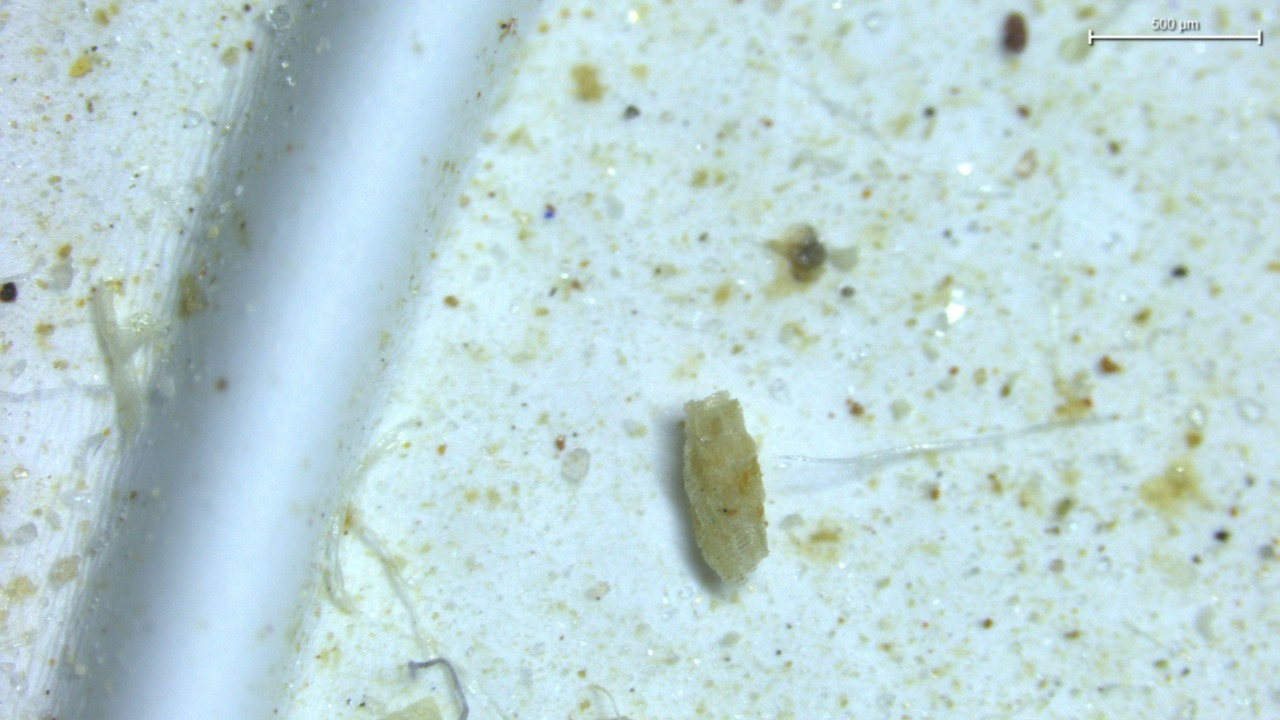microplastic_fragment: (683, 392, 768, 582)
